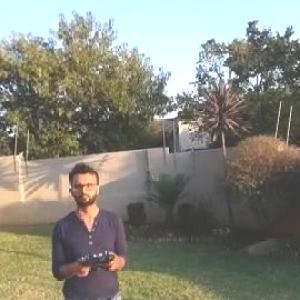follow: (46, 152, 136, 299)
